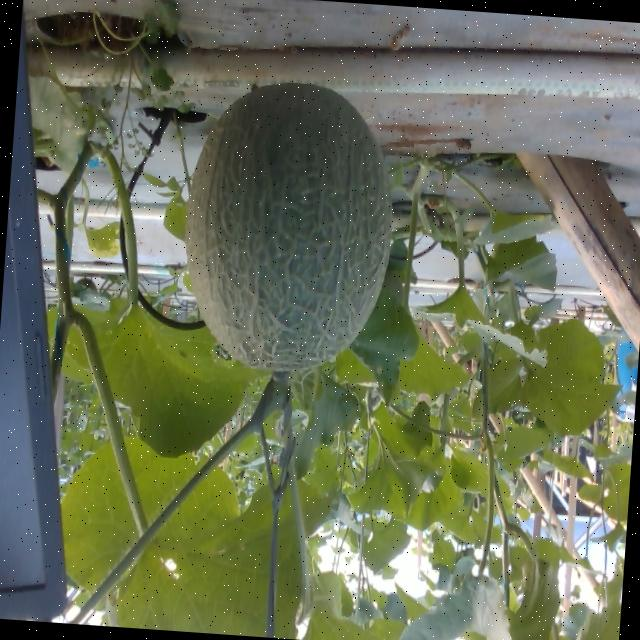melon: (183, 81, 390, 367)
